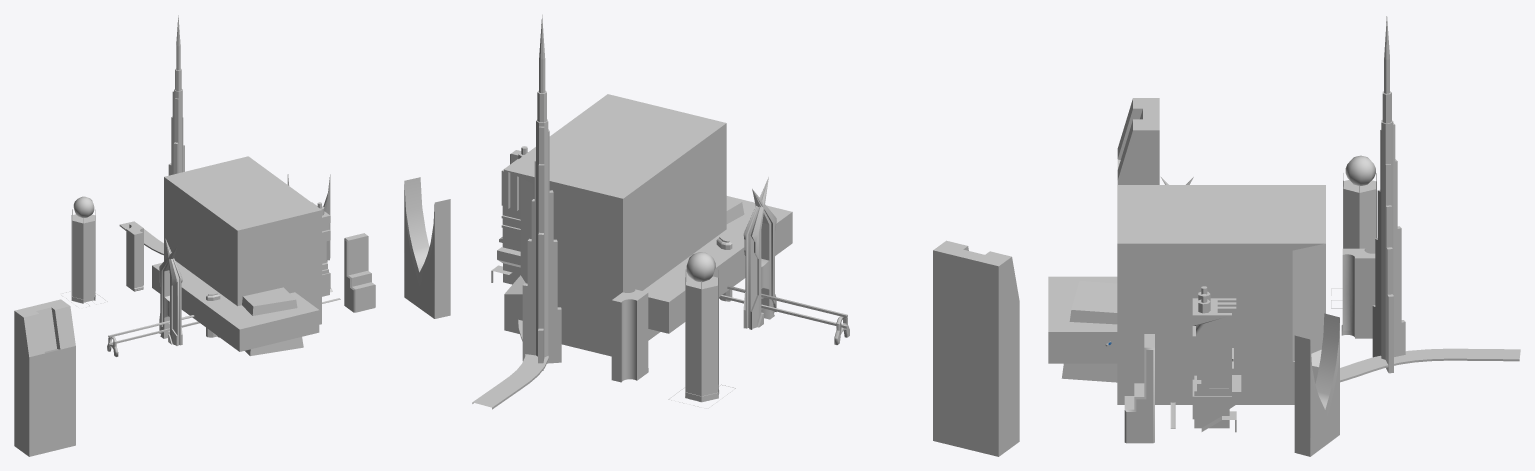
The model's file is cyberpunk.fbx.
3 views of the same model, side by side, from view 1: azimuth 30°, elevation 25°; view 2: azimuth 150°, elevation 25°; view 3: azimuth 270°, elevation 25° (orthographic). The views are drawn at different scales.
Parts seen in each view (by area): view 1: Building 015, Building 006, Building 017, Building 012, Building 010, Building 002, Building 014, Building 008, Building 011, Building 016, Building 003, Train Tracks (+1 smaller); view 2: Building 015, Building 006, Building 008, Building 009, Building 012, Building 017, Building 002, Building 011, Building 003, Train Track 2, Building 016, Train Tracks; view 3: Building 015, Building 008, Building 003, Building 009, Building 017, Building 006, Building 012, Building 011, Building 014, Building 010, Train Track 2, Building 016.
Boxes of the visible parts, box(x1,y1,x2,y2) form: Building 015: box(164, 156, 321, 324); Building 006: box(14, 299, 75, 456); Building 017: box(152, 261, 319, 351); Building 012: box(62, 196, 107, 307); Building 010: box(344, 233, 375, 312); Building 002: box(159, 238, 182, 345); Building 014: box(242, 287, 303, 355); Building 008: box(168, 15, 184, 175); Building 011: box(126, 222, 143, 291); Building 016: box(152, 268, 319, 351); Building 003: box(312, 202, 332, 296); Train Tracks: box(107, 315, 199, 356); Building 015: box(504, 94, 726, 356); Building 006: box(933, 240, 1019, 456); Building 008: box(522, 15, 561, 370); Building 009: box(404, 177, 450, 318); Building 012: box(668, 252, 735, 408); Building 017: box(643, 196, 792, 333); Building 002: box(743, 177, 776, 329); Building 011: box(611, 289, 648, 382); Building 003: box(491, 146, 527, 284); Train Track 2: box(472, 319, 548, 409); Building 016: box(648, 214, 792, 333); Train Tracks: box(719, 285, 849, 344); Building 015: box(1117, 185, 1325, 404); Building 008: box(1372, 16, 1405, 373); Building 003: box(1192, 286, 1241, 432); Building 009: box(1294, 313, 1339, 456); Building 017: box(1048, 276, 1117, 363); Building 006: box(1117, 98, 1159, 184); Building 012: box(1331, 155, 1376, 308); Building 011: box(1341, 248, 1375, 338); Building 014: box(1061, 281, 1117, 382); Building 010: box(1124, 334, 1154, 443); Train Track 2: box(1340, 348, 1520, 382); Building 016: box(1048, 334, 1117, 363).
Size of what is drawn, in the model's own units: 3661 by 2974 by 2864.
